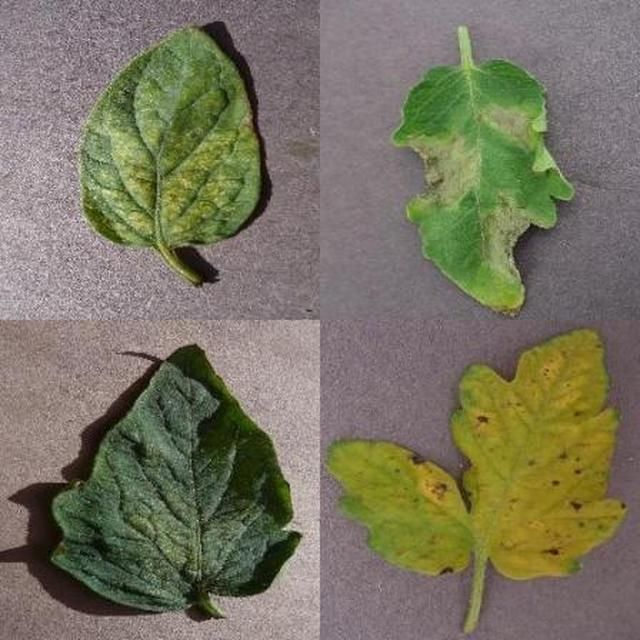Spider Mites Leaf: (243, 195, 640, 640)
